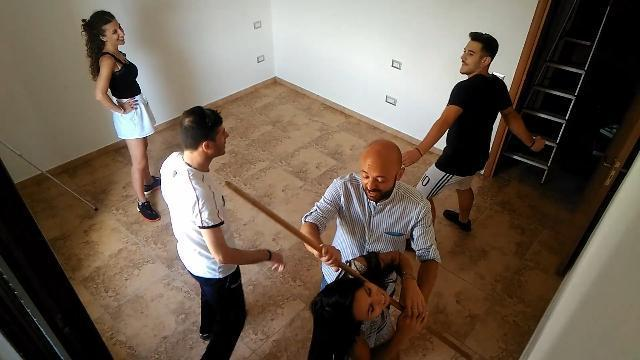non-violence: (161, 105, 289, 360), (82, 11, 172, 219)
violence: (226, 140, 497, 360), (398, 30, 550, 246)
